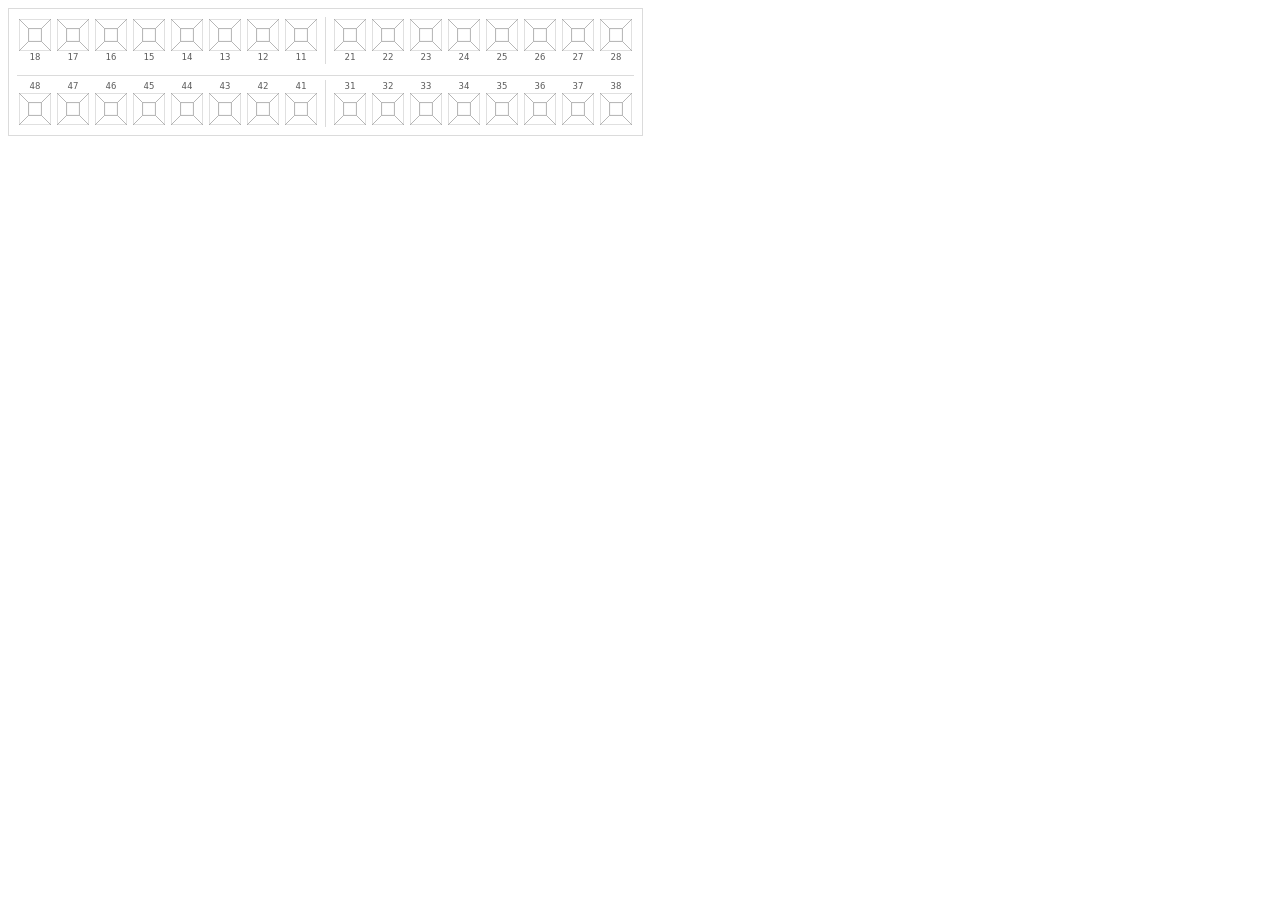
Odontogram — notas › nota textarea is prefilled with existing note
Click the button "16": (111, 40) x1=93 y1=17 x2=129 y2=64
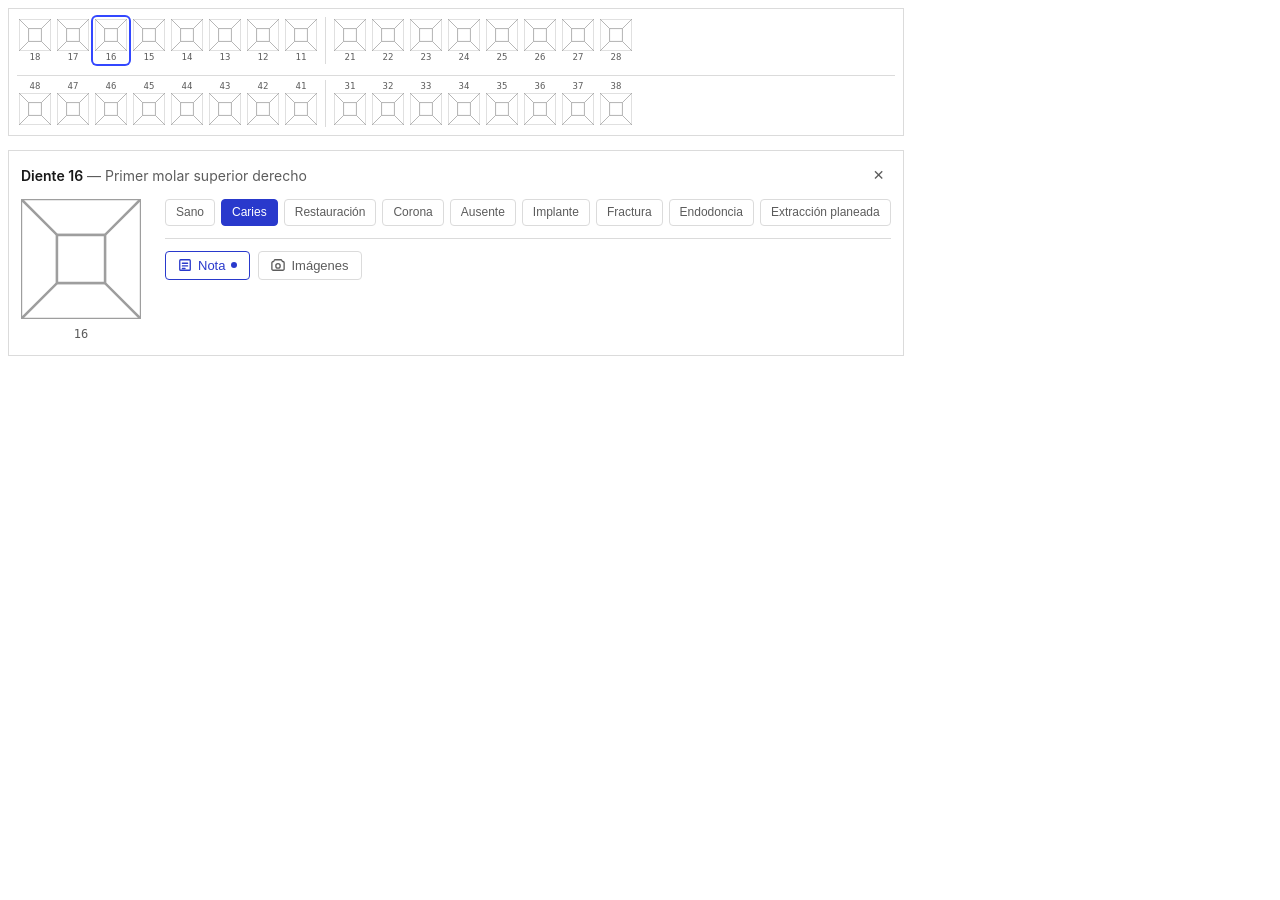
Click the button with aria-label "Nota del diente 16": (208, 265) x1=165 y1=251 x2=250 y2=280
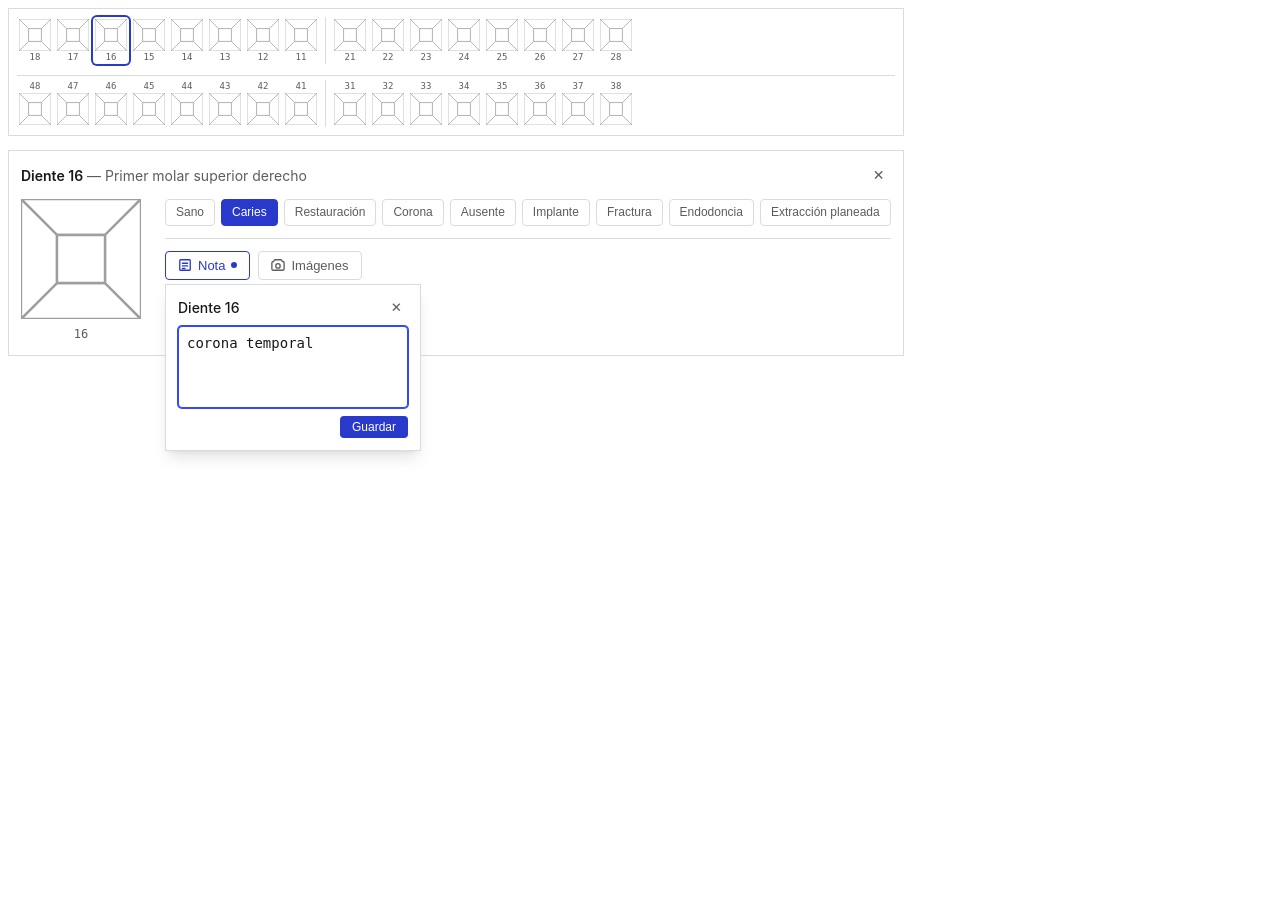
Now the text box holds "corona temporal", box x1=178 y1=326 x2=408 y2=408
